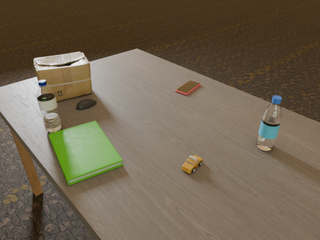book: (49, 121, 123, 185)
bottle: (256, 96, 282, 151), (37, 79, 62, 133)
box: (34, 52, 92, 101)
mouse: (76, 99, 97, 110)
phone: (175, 81, 201, 95)
toy_car: (182, 155, 203, 174)
